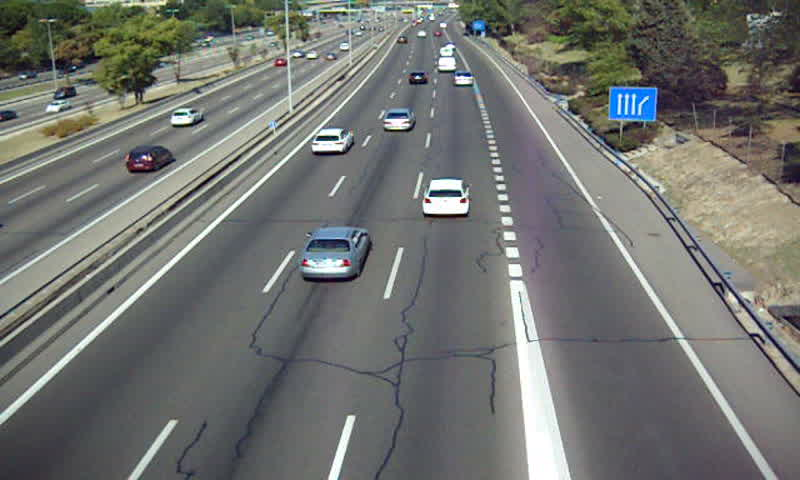car: (298, 226, 371, 281), (424, 179, 469, 216), (311, 129, 351, 154), (383, 109, 415, 133), (453, 71, 476, 88), (406, 72, 428, 86)
van: (437, 57, 457, 71), (441, 46, 455, 58)
